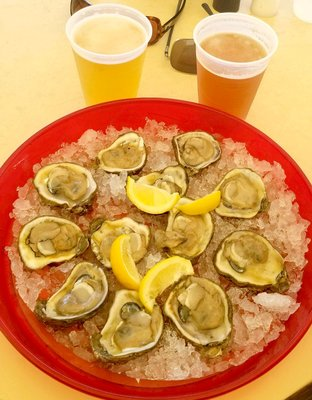pizza: (192, 11, 280, 121), (65, 1, 152, 106)
